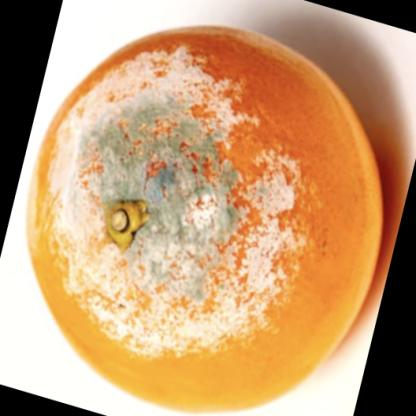rotten: (27, 23, 385, 409)
